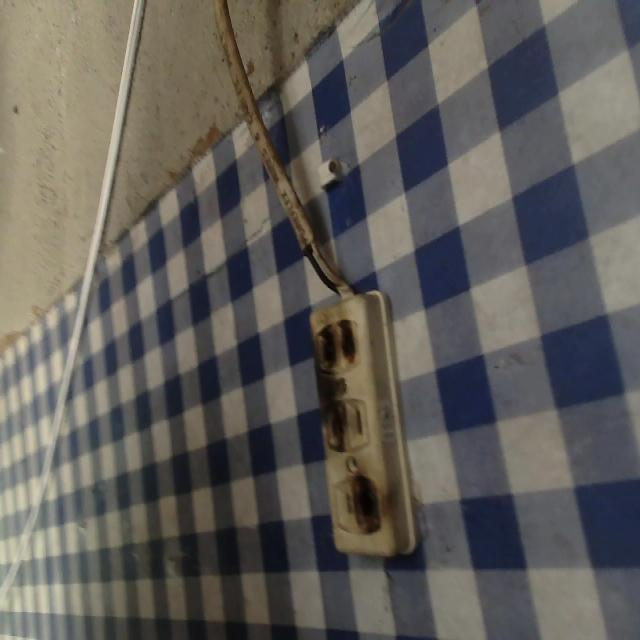-: (313, 314, 361, 374), (352, 468, 382, 532), (321, 394, 347, 454)
